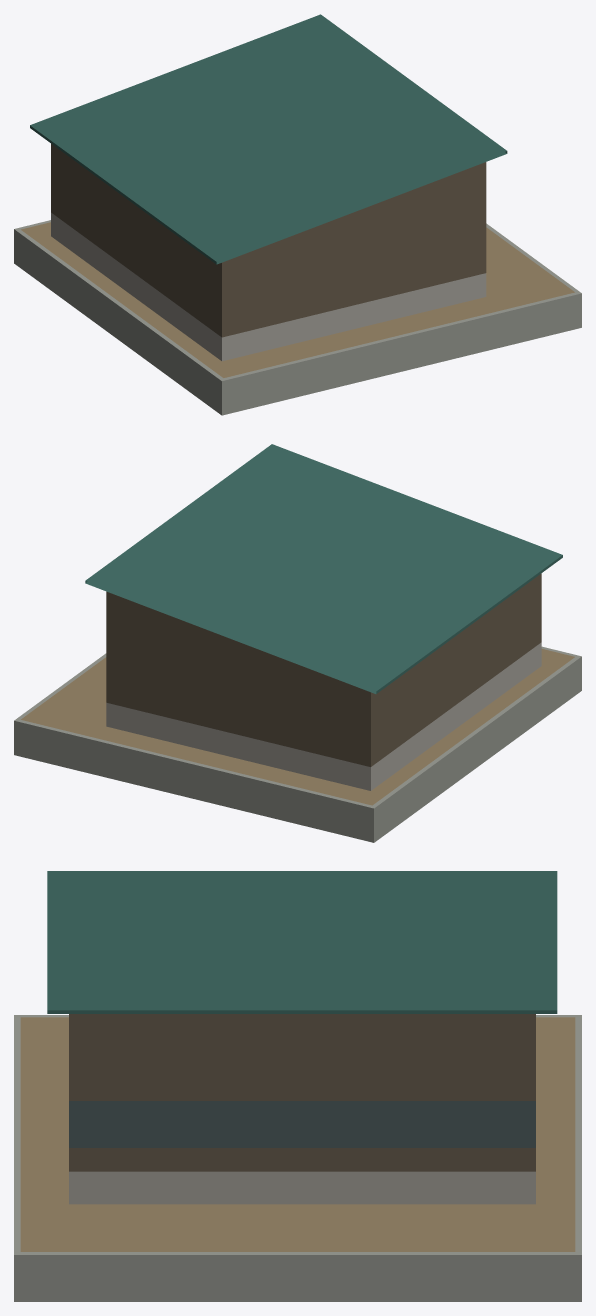
Rendered from site_hut3_far.fbx.
3 views of the same model, one above another, from view 1: azimuth 30°, elevation 25°; view 2: azimuth 150°, elevation 25°; view 3: azimuth 270°, elevation 25° (orthographic). The views are drawn at different scales.
Visible parts, largest first — view 1: a2015.site_hut3.far; view 2: a2015.site_hut3.far; view 3: a2015.site_hut3.far.
Boxes of the visible parts, box(x1,y1,x2,y2) form: a2015.site_hut3.far: box(14, 14, 581, 415); a2015.site_hut3.far: box(14, 444, 581, 842); a2015.site_hut3.far: box(14, 871, 581, 1301).
Bounding box in the file's own units: 10.4 × 5.05 × 10.4.
